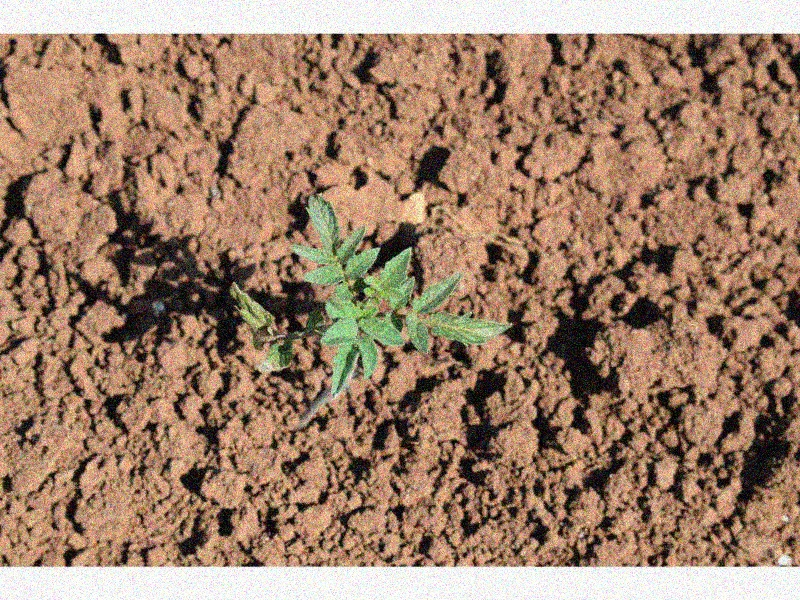tomato: (231, 197, 512, 400)
